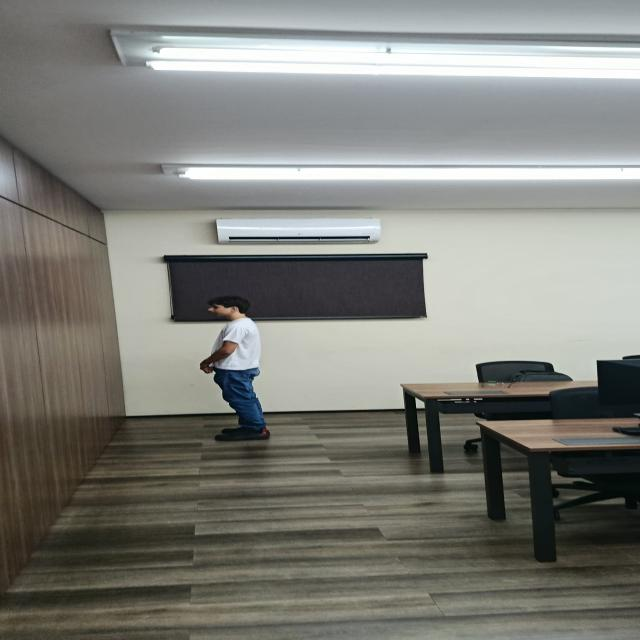sem_oculos: (206, 304, 236, 309)
